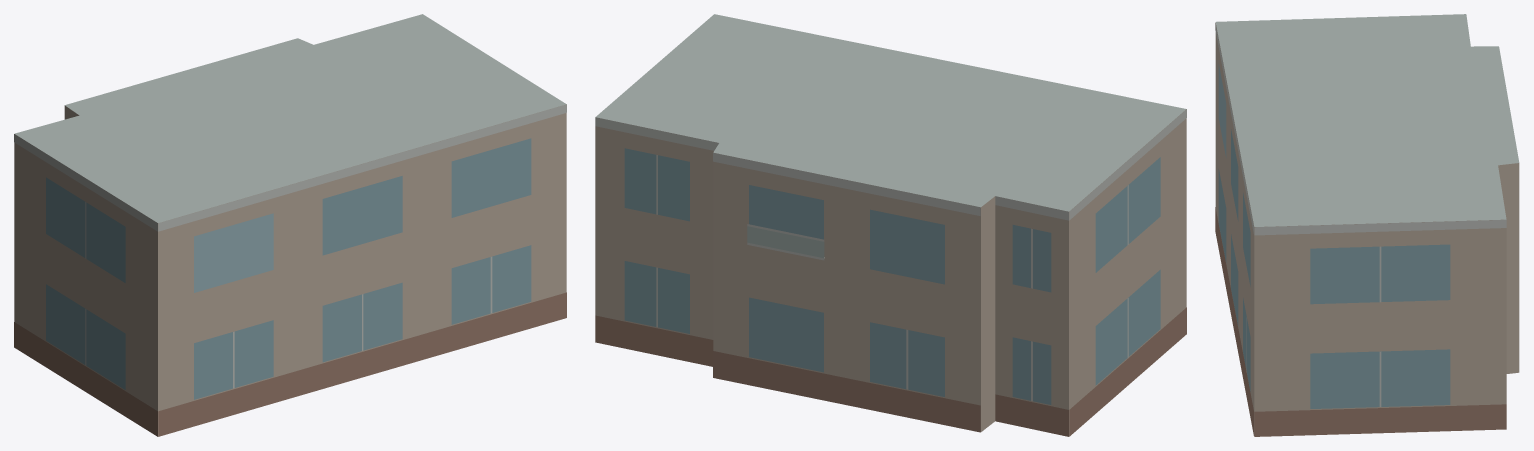
File: survey-upis-32678457.glb
3 views of the same model, side by side, from view 1: azimuth 30°, elevation 25°; view 2: azimuth 150°, elevation 25°; view 3: azimuth 270°, elevation 25° (orthographic). The views are drawn at different scales.
Visible parts, largest first — view 1: survey-upis-32678457.tmp; view 2: survey-upis-32678457.tmp; view 3: survey-upis-32678457.tmp.
Boxes of the visible parts, <box> form: survey-upis-32678457.tmp: <box>14,14,566,436</box>; survey-upis-32678457.tmp: <box>595,14,1186,436</box>; survey-upis-32678457.tmp: <box>1215,14,1519,436</box>.
Size of the model in its own units: 13.3 by 6.1 by 8.02.
